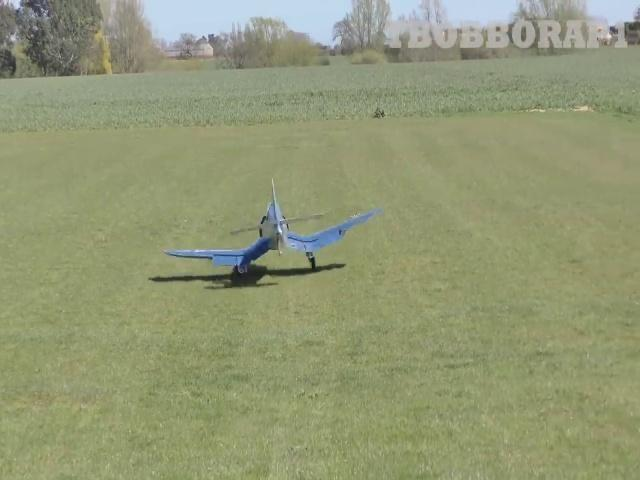Airplane: (164, 179, 384, 274)
